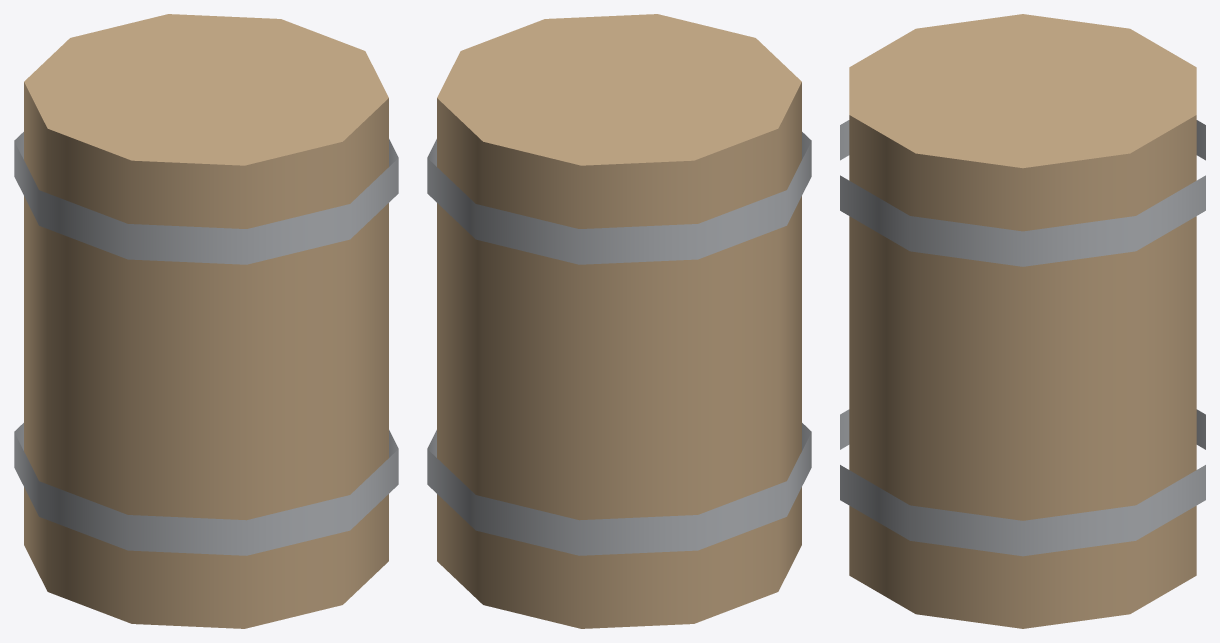
File: barrel.glb
3 views of the same model, side by side, from view 1: azimuth 30°, elevation 25°; view 2: azimuth 150°, elevation 25°; view 3: azimuth 270°, elevation 25° (orthographic).
Parts seen in each view (by area): view 1: barrel; view 2: barrel; view 3: barrel.
Part boxes in pixels (x1,y1,x2,y2): barrel: (14, 14, 398, 628); barrel: (427, 14, 811, 628); barrel: (840, 14, 1205, 628).
Size of the model in its own units: 0.59 by 0.78 by 0.5611.
